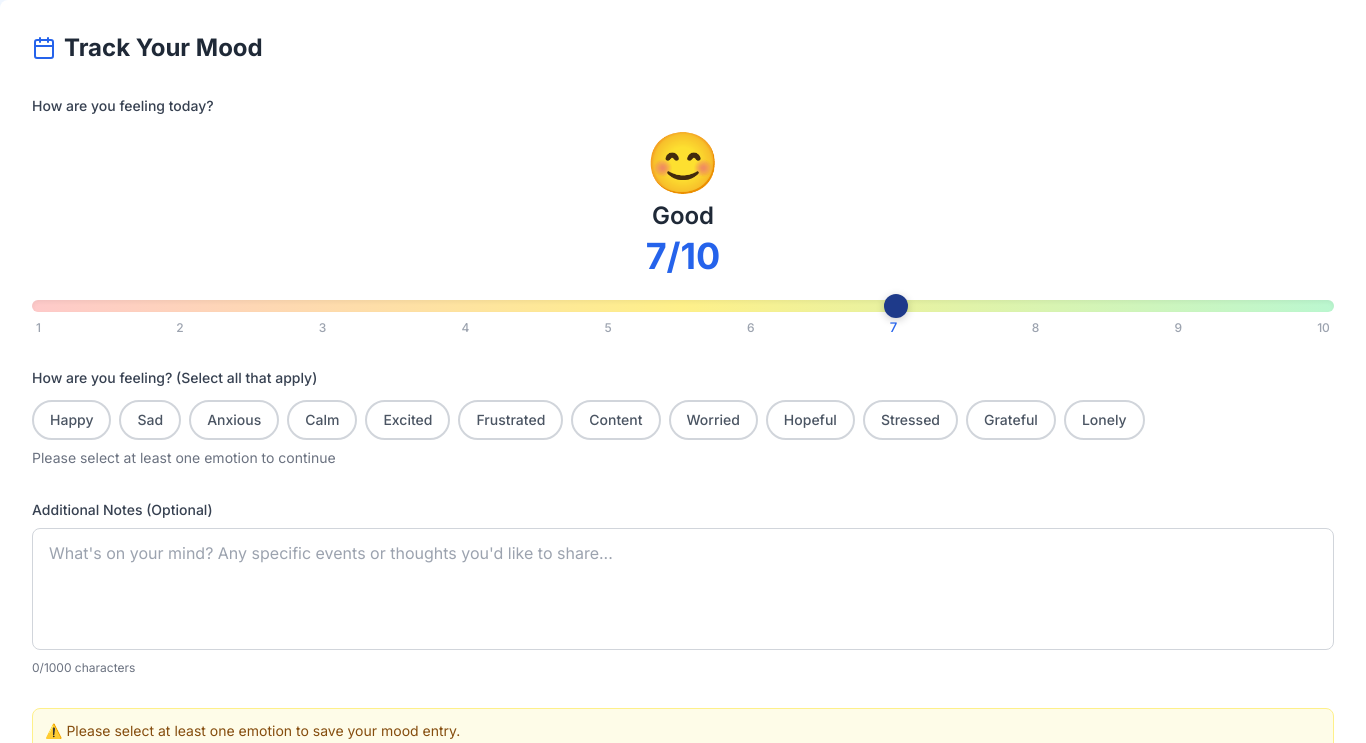
it: ClientView Component › allows selecting multiple emotions
The image size is (1366, 743).
Click the checkbox "Happy". click: coordinates (72, 420)
box: [32,400,112,440]
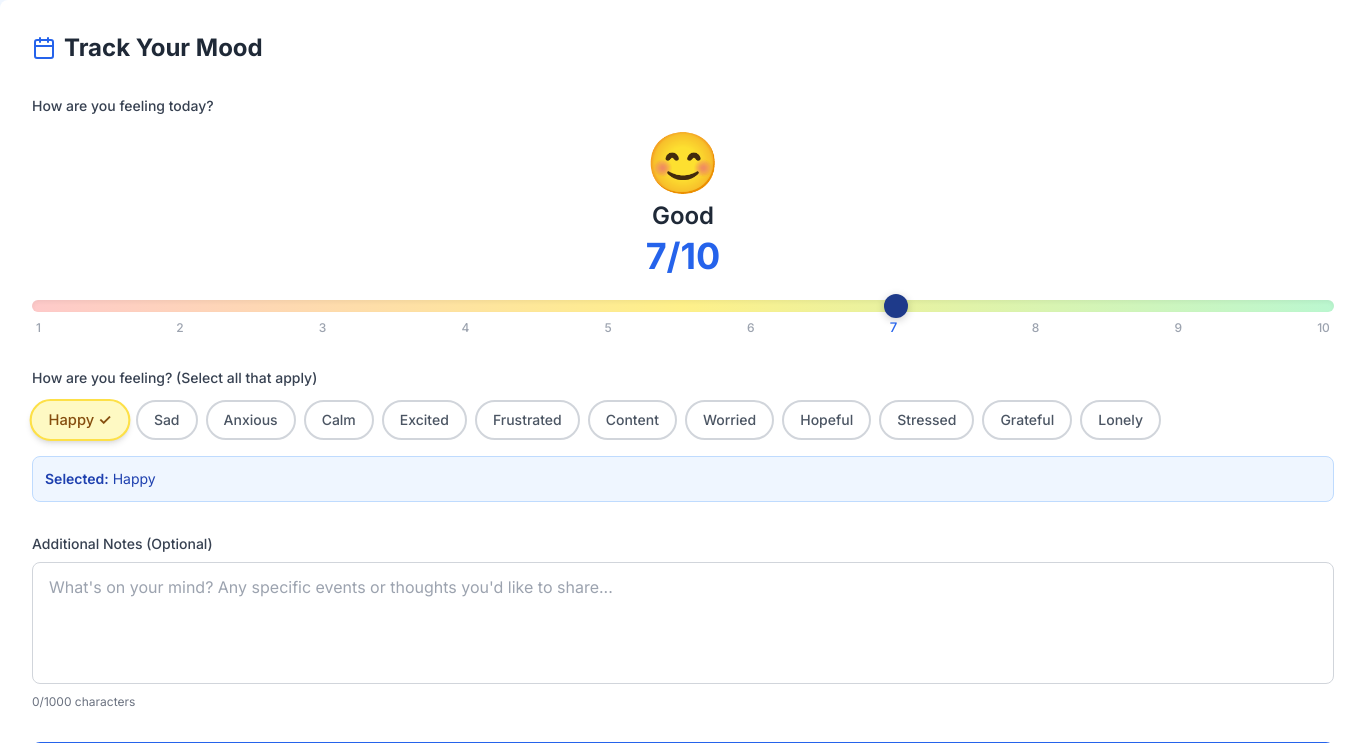
Click the checkbox "Calm". click: coordinates (339, 420)
box: [304,400,374,440]
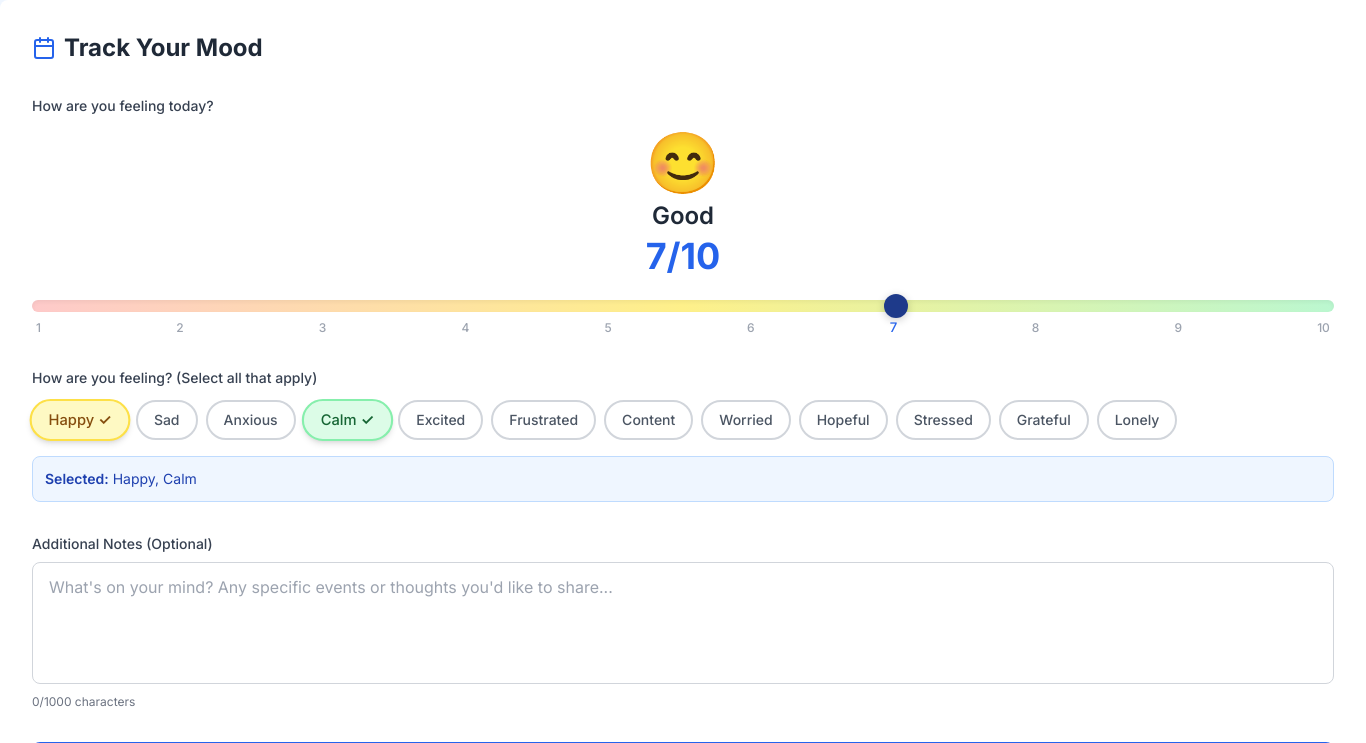
Click the checkbox "Grateful". click: coordinates (1044, 420)
box: [999,400,1089,440]
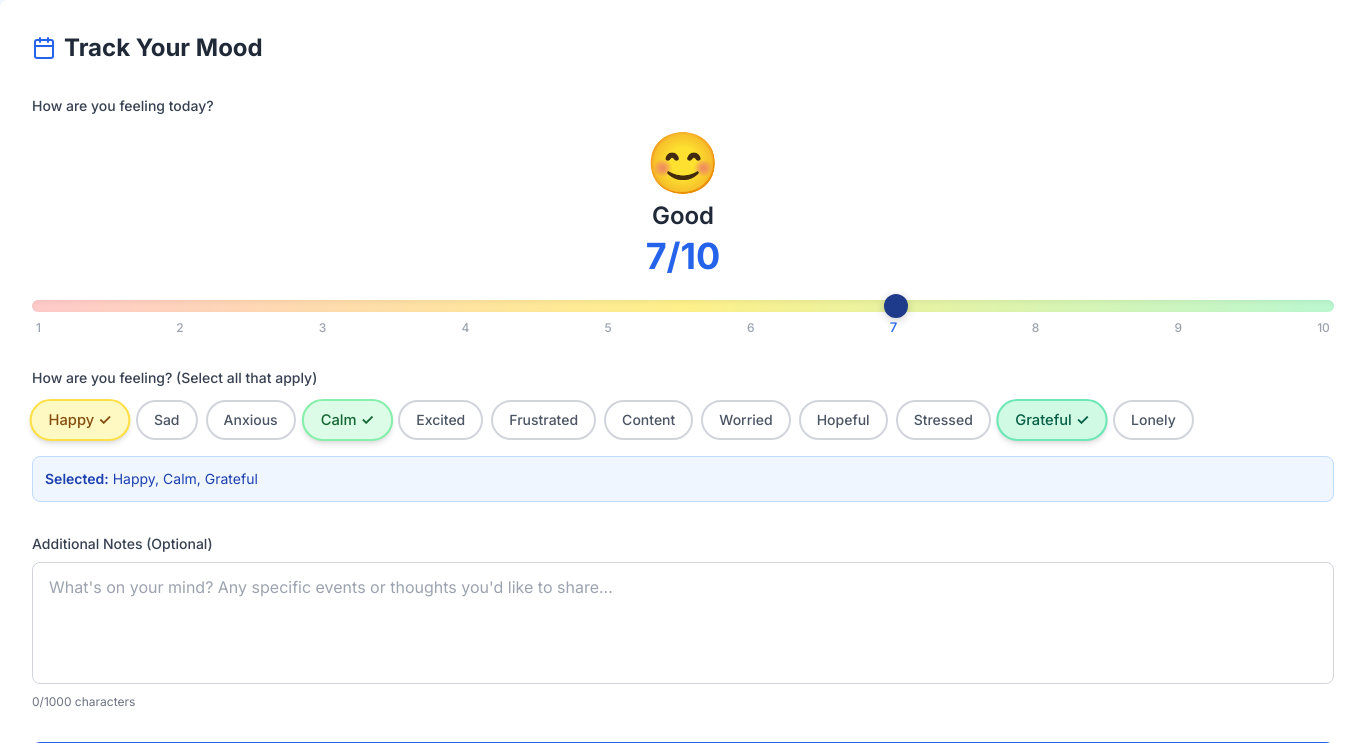
Check: the text "Happy, Calm, Grateful" is shown, box [113,470,258,487]
